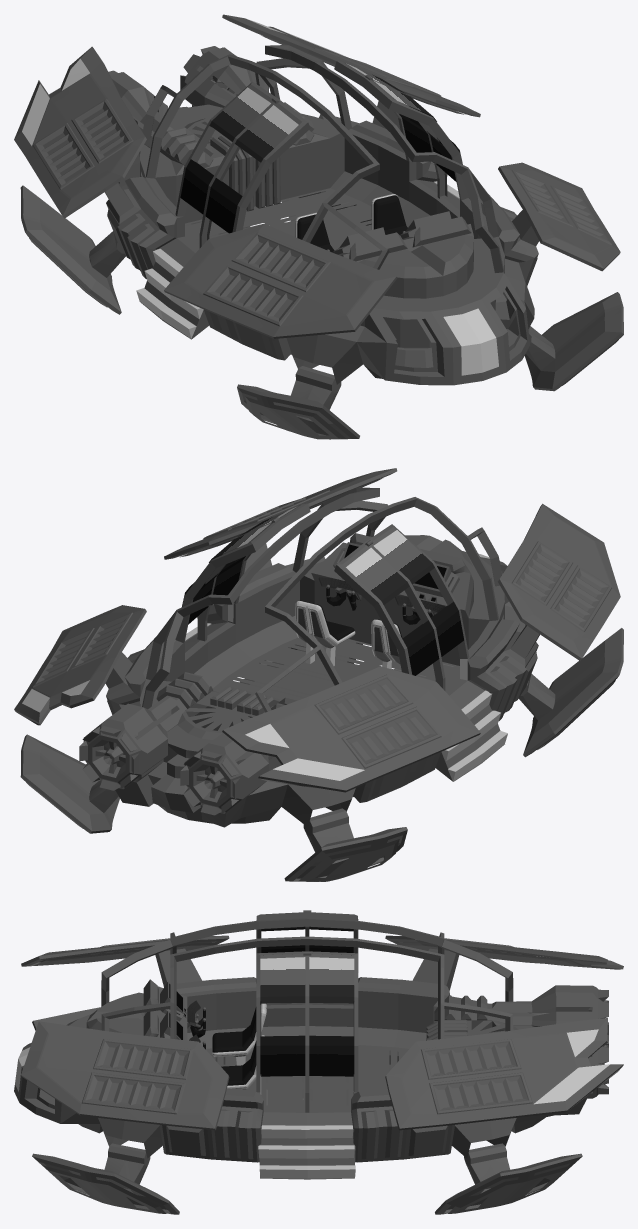
The model's file is cat-350.dae.
3 renders of one model, top to bottom at view 1: azimuth 30°, elevation 25°; view 2: azimuth 150°, elevation 25°; view 3: azimuth 270°, elevation 25°, orthographic. The views are drawn at different scales.
Visible parts, largest first — view 1: cat-350; view 2: cat-350; view 3: cat-350.
Boxes of the visible parts, x1,y1,x2,y2 form: cat-350: [14, 14, 623, 439]; cat-350: [14, 468, 623, 881]; cat-350: [14, 910, 623, 1214].
Size of the model in its own units: 13.71 by 18.98 by 7.84.
